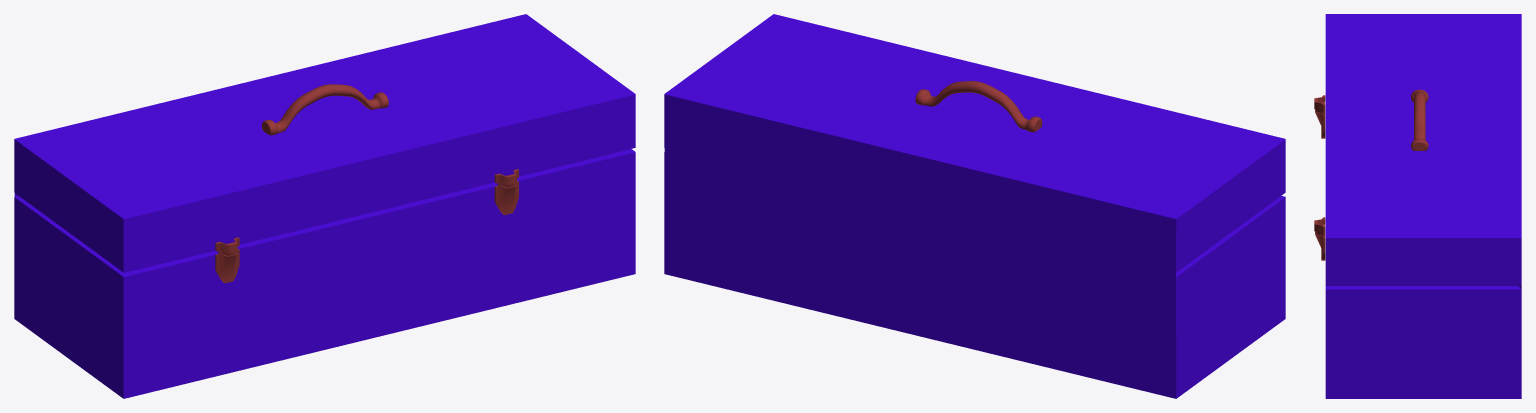
The model's file is 3D_Caja_Herramientas.fbx.
3 renders of one model, left to right at view 1: azimuth 30°, elevation 25°; view 2: azimuth 150°, elevation 25°; view 3: azimuth 270°, elevation 25°, orthographic. The views are drawn at different scales.
Visible parts, largest first — view 1: caja_herramientas; view 2: caja_herramientas; view 3: caja_herramientas.
Part boxes in pixels (x1,y1,x2,y2): caja_herramientas: (14,14,635,398); caja_herramientas: (664,14,1285,398); caja_herramientas: (1314,14,1521,398).
Size of the model in its own units: 47.88 by 19.01 by 18.77.
